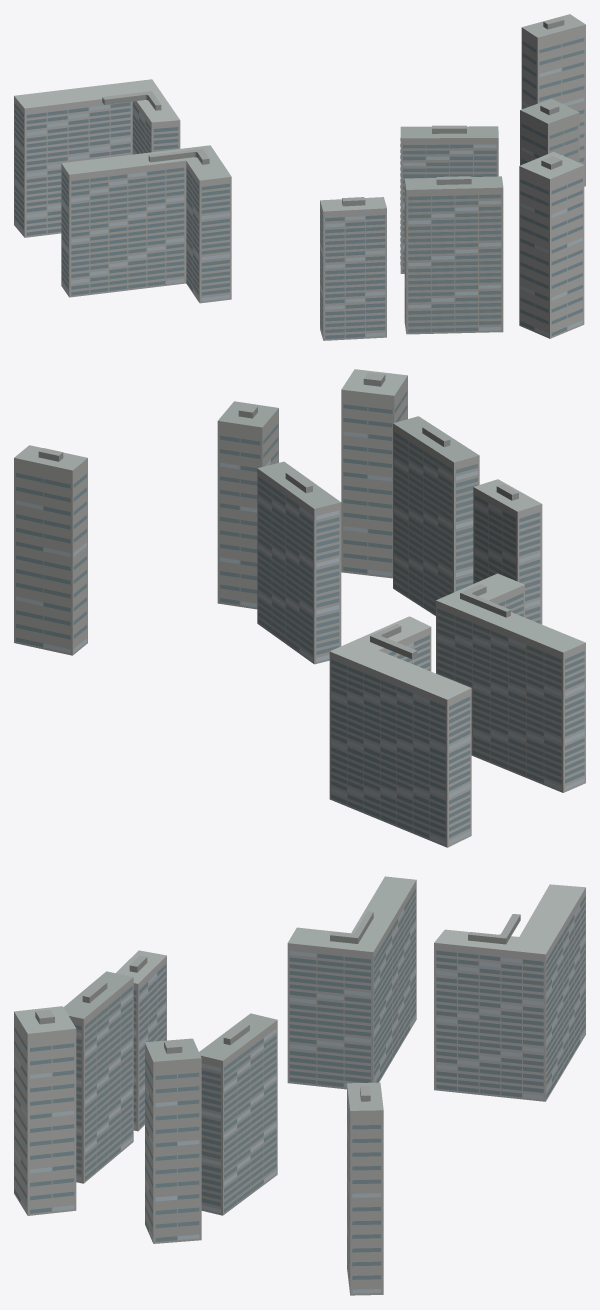
Rendered from apt-a15180705.glb.
3 renders of one model, top to bottom at view 1: azimuth 30°, elevation 25°; view 2: azimuth 150°, elevation 25°; view 3: azimuth 270°, elevation 25°, orthographic. The views are drawn at different scales.
Parts seen in each view (by area): view 1: apt-a15180705; view 2: apt-a15180705; view 3: apt-a15180705.
Boxes of the visible parts, x1=… form: apt-a15180705: x1=14, y1=14, x2=585, y2=340; apt-a15180705: x1=14, y1=369, x2=585, y2=847; apt-a15180705: x1=14, y1=876, x2=585, y2=1295.
Bounding box in the file's own units: 242 × 77 × 210.
